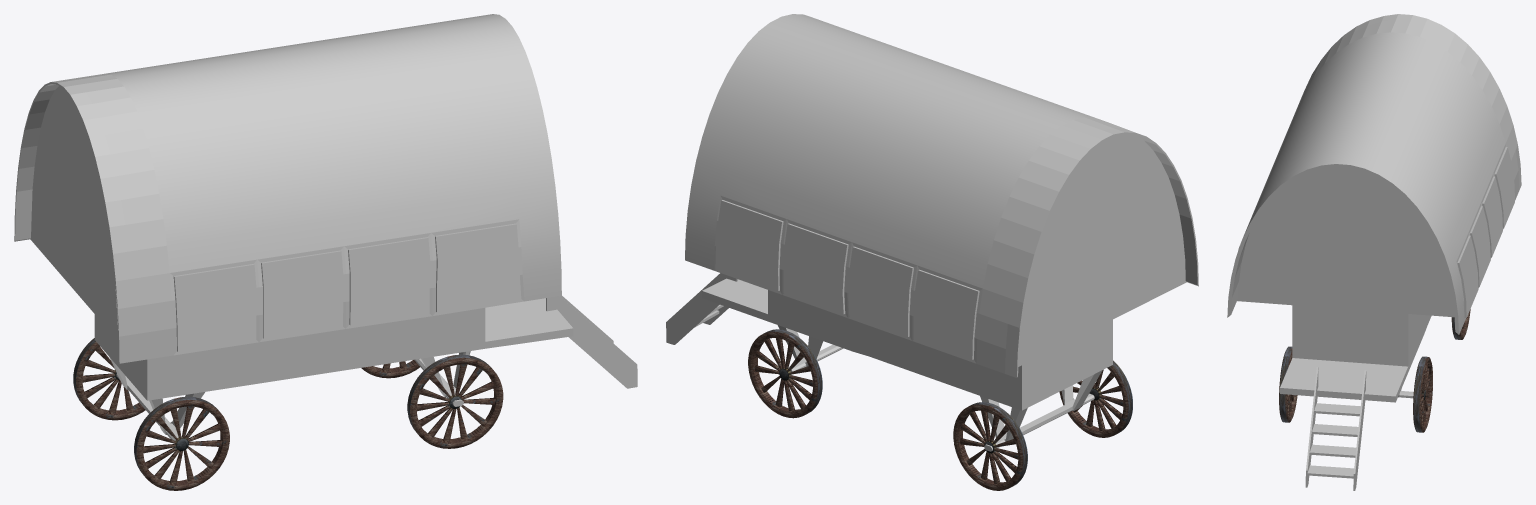
Rendered from Caravan01-Sealed.FBX.
3 renders of one model, left to right at view 1: azimuth 30°, elevation 25°; view 2: azimuth 150°, elevation 25°; view 3: azimuth 270°, elevation 25°, orthographic. The views are drawn at different scales.
Parts seen in each view (by area): view 1: 1, Tube003, Tube002, StraightStair001; view 2: 1, Tube002, Tube003, StraightStair001; view 3: 1, StraightStair001, Tube002, Tube003.
Part boxes in pixels (left/top/right/bottom): 1: left=14, top=14, right=573, bottom=440; Tube003: left=134, top=354, right=503, bottom=490; Tube002: left=73, top=338, right=419, bottom=420; StraightStair001: left=546, top=295, right=637, bottom=388; 1: left=685, top=14, right=1198, bottom=451; Tube002: left=748, top=329, right=1027, bottom=490; Tube003: left=1059, top=360, right=1132, bottom=437; StraightStair001: left=666, top=273, right=737, bottom=344; 1: left=1227, top=14, right=1521, bottom=402; StraightStair001: left=1305, top=367, right=1366, bottom=490; Tube002: left=1413, top=309, right=1470, bottom=432; Tube003: left=1279, top=346, right=1297, bottom=422.
Bounding box in the file's own units: 111 × 74.31 × 68.81.
